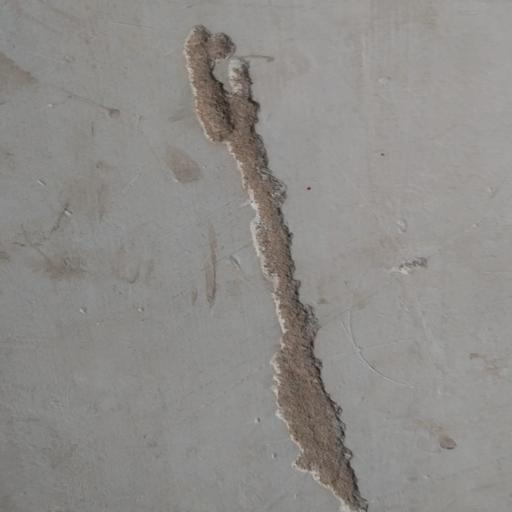peeling: (172, 10, 385, 512)
